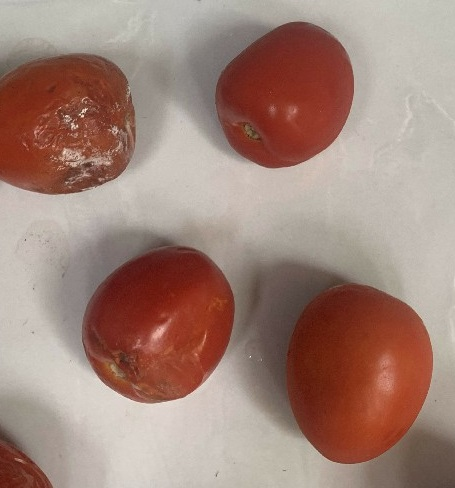NG: (76, 242, 253, 404), (0, 50, 138, 202)
OK: (284, 280, 435, 465), (209, 17, 364, 172)
